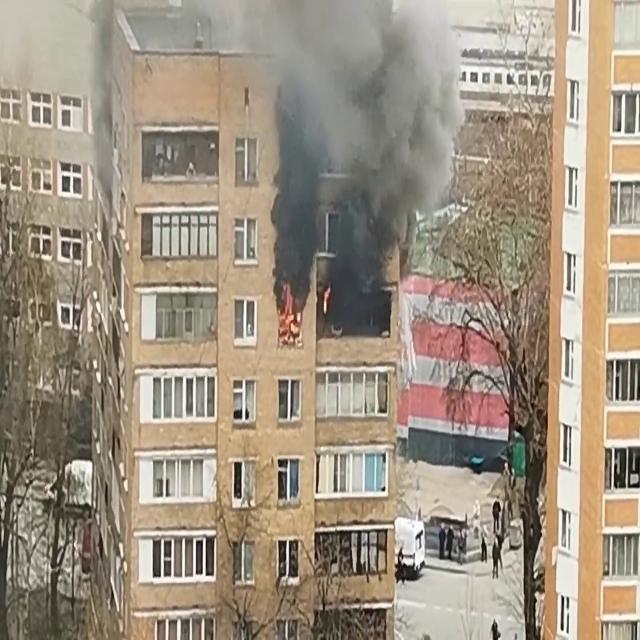Fire: (277, 278, 301, 340)
Smoke: (262, 0, 471, 293), (84, 0, 122, 231)
